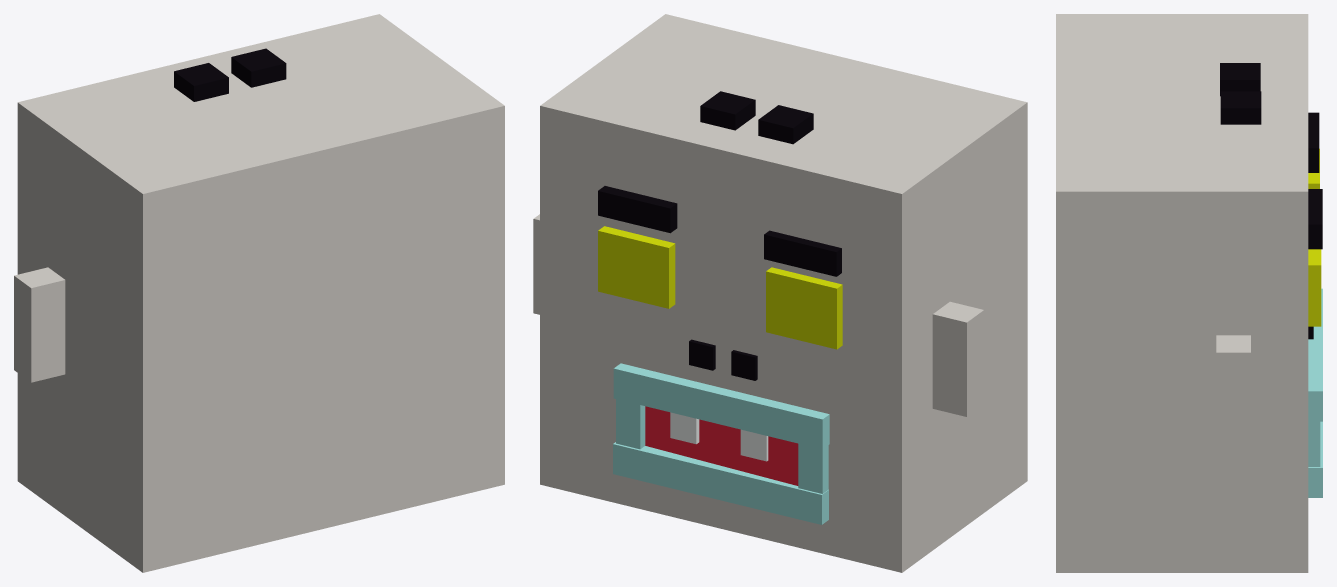
Rendered from zombie_blanco_cortado.fbx.
3 views of the same model, side by side, from view 1: azimuth 30°, elevation 25°; view 2: azimuth 150°, elevation 25°; view 3: azimuth 270°, elevation 25° (orthographic).
Visible parts, largest first — view 1: Plano, Plano.001; view 2: Plano, Plano.001; view 3: Plano.001, Plano.
Boxes of the visible parts, x1=… form: Plano: x1=14, y1=58, x2=323, y2=572; Plano.001: x1=197, y1=14, x2=504, y2=528; Plano: x1=714, y1=58, x2=1027, y2=572; Plano.001: x1=533, y1=14, x2=847, y2=528; Plano.001: x1=1056, y1=91, x2=1322, y2=572; Plano: x1=1056, y1=14, x2=1322, y2=341.
Size of the model in its own units: 238 by 208 by 127.
